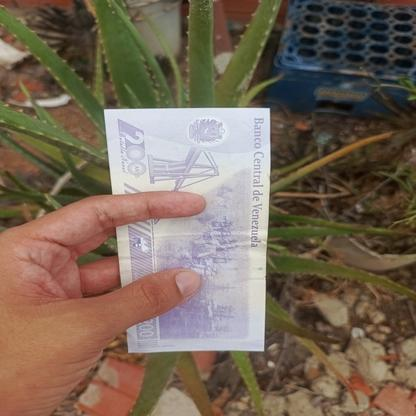vef_back: (102, 107, 270, 354)
